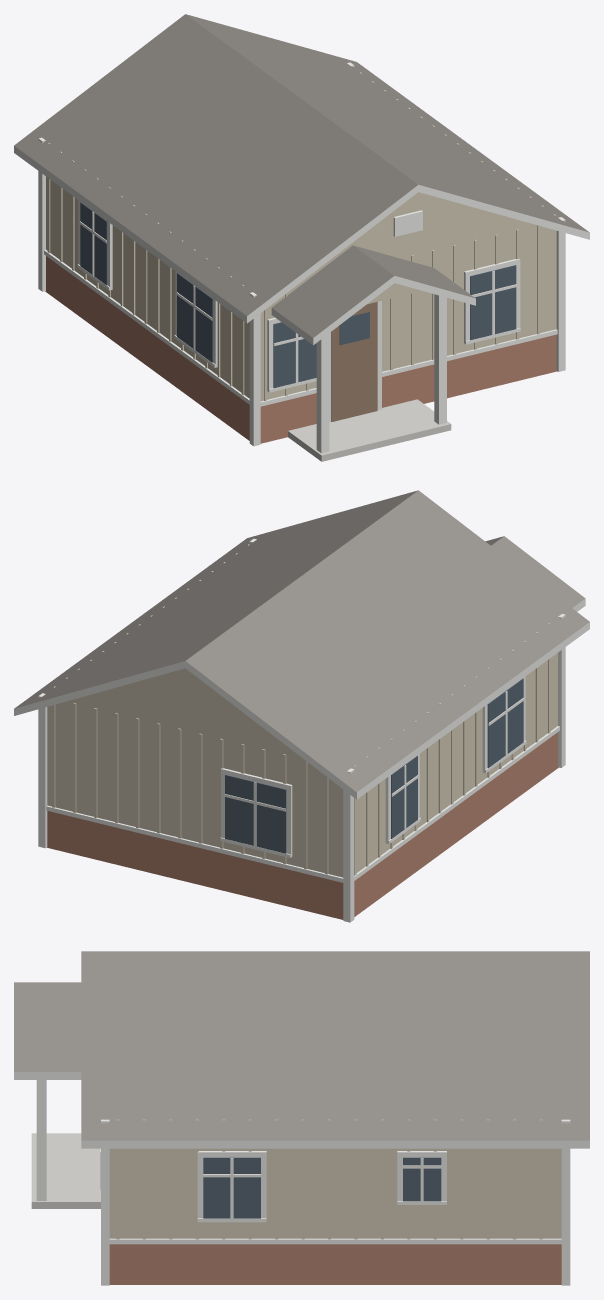
File: cherry-craftsman.glb
3 views of the same model, one above another, from view 1: azimuth 30°, elevation 25°; view 2: azimuth 150°, elevation 25°; view 3: azimuth 270°, elevation 25° (orthographic). The views are drawn at different scales.
Visible parts, largest first — view 1: The Cherry (craftsman); view 2: The Cherry (craftsman); view 3: The Cherry (craftsman).
Boxes of the visible parts, box(x1,y1,x2,y2) form: The Cherry (craftsman): box(14, 14, 589, 461); The Cherry (craftsman): box(14, 490, 589, 922); The Cherry (craftsman): box(14, 951, 589, 1285).
Bounding box in the file's own units: 6.86 × 4.42 × 9.15.
